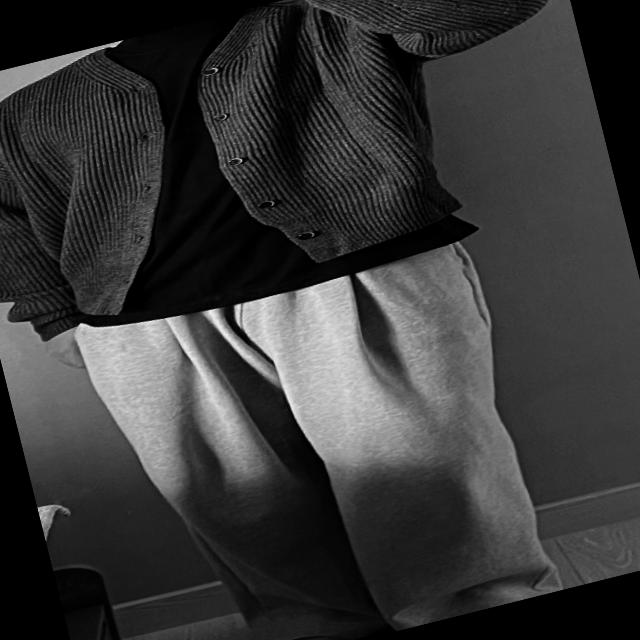cardigan: (0, 0, 618, 354)
trainingpants: (56, 211, 556, 640)
